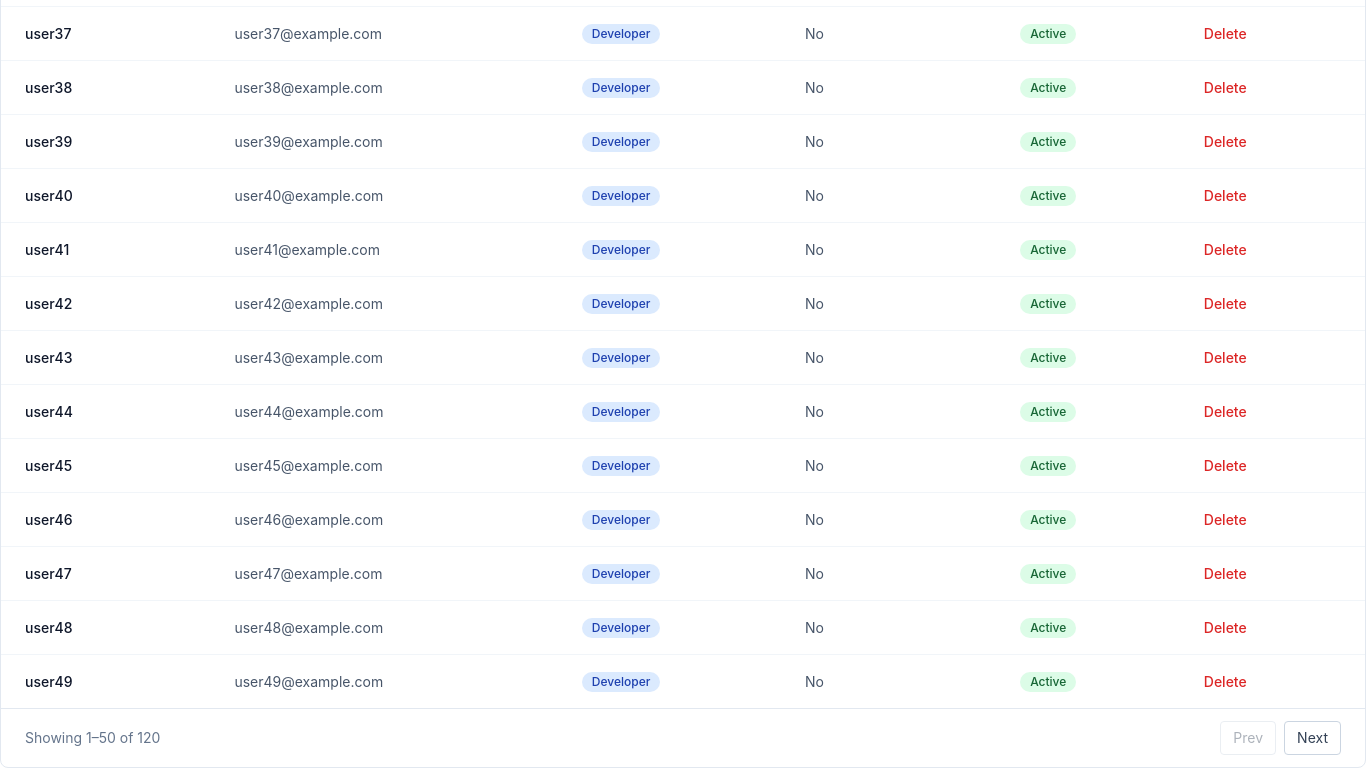
Test: UserTable › a search change goes back to the first page
The image size is (1366, 768).
(page scrolled)
Click the button with test id "user-page-next" at point(1313, 738), box x1=1284 y1=721 x2=1341 y2=755
(page scrolled)
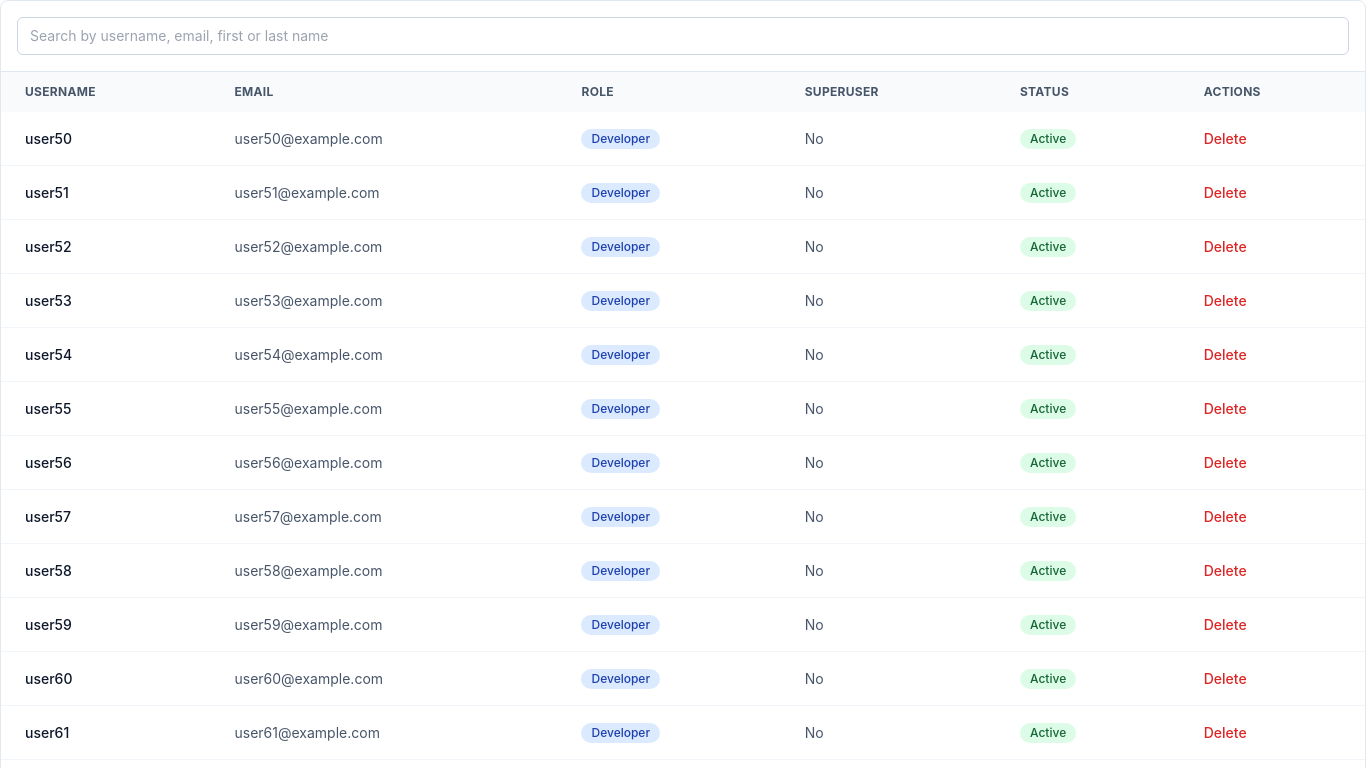
Type "user1" into the field with test id "user-search" at point(683, 36), box x1=17 y1=17 x2=1349 y2=55
Wait 300 ms
(page scrolled)
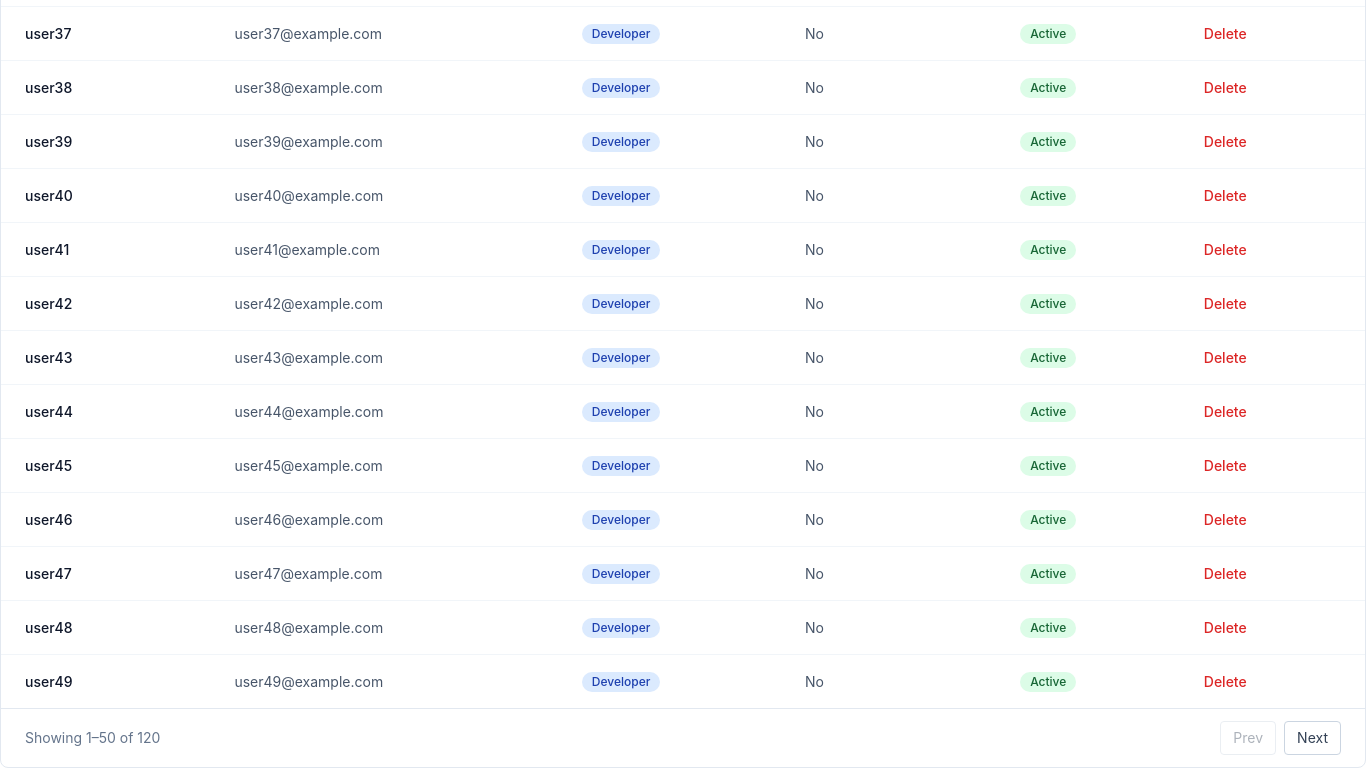
Expected: the text with test id "user-page-info" reads "Showing 1–50 of 120", x1=25 y1=728 x2=160 y2=748
